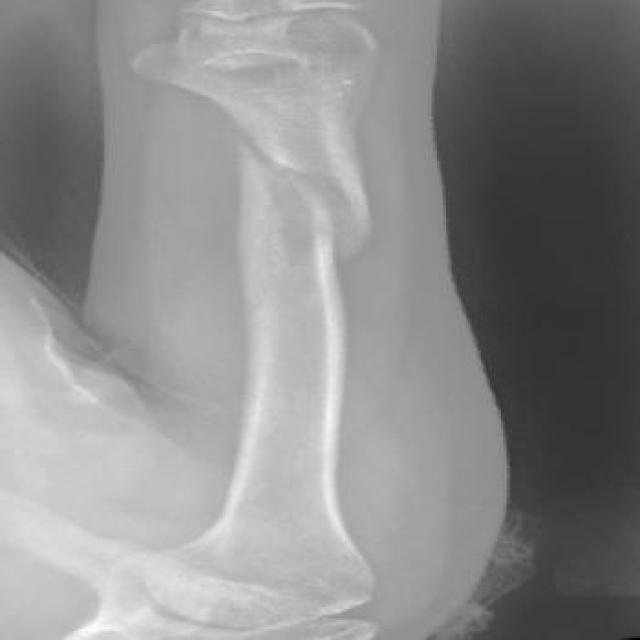fracture: (210, 132, 406, 276)
